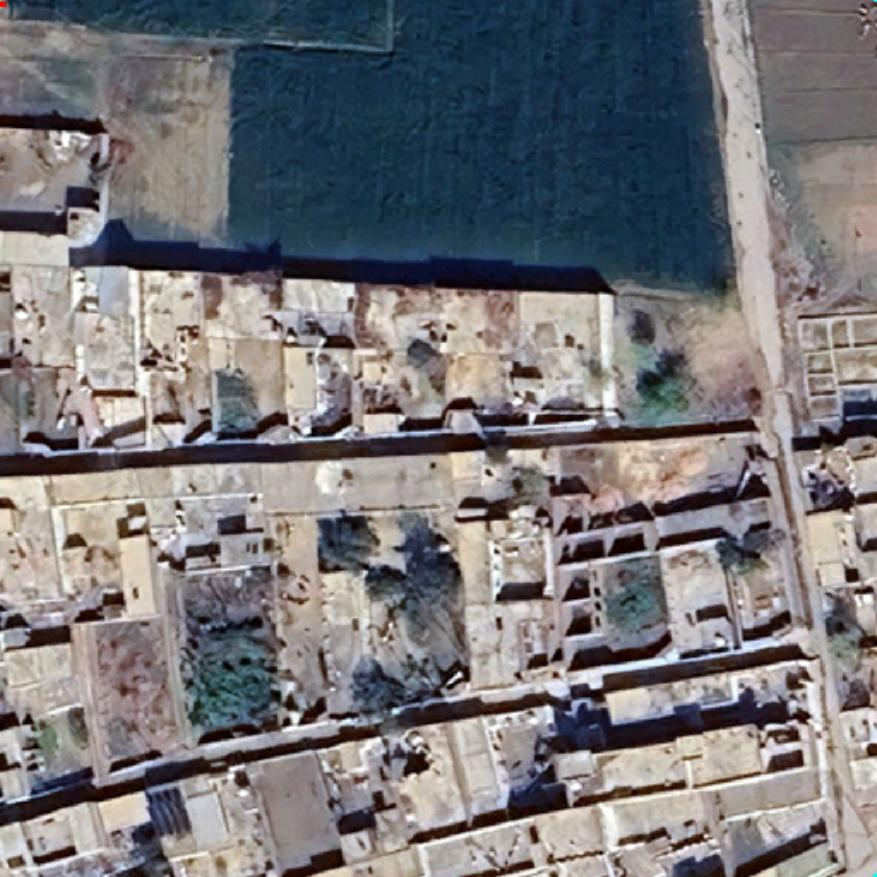Solarpanel: (142, 784, 196, 844)
